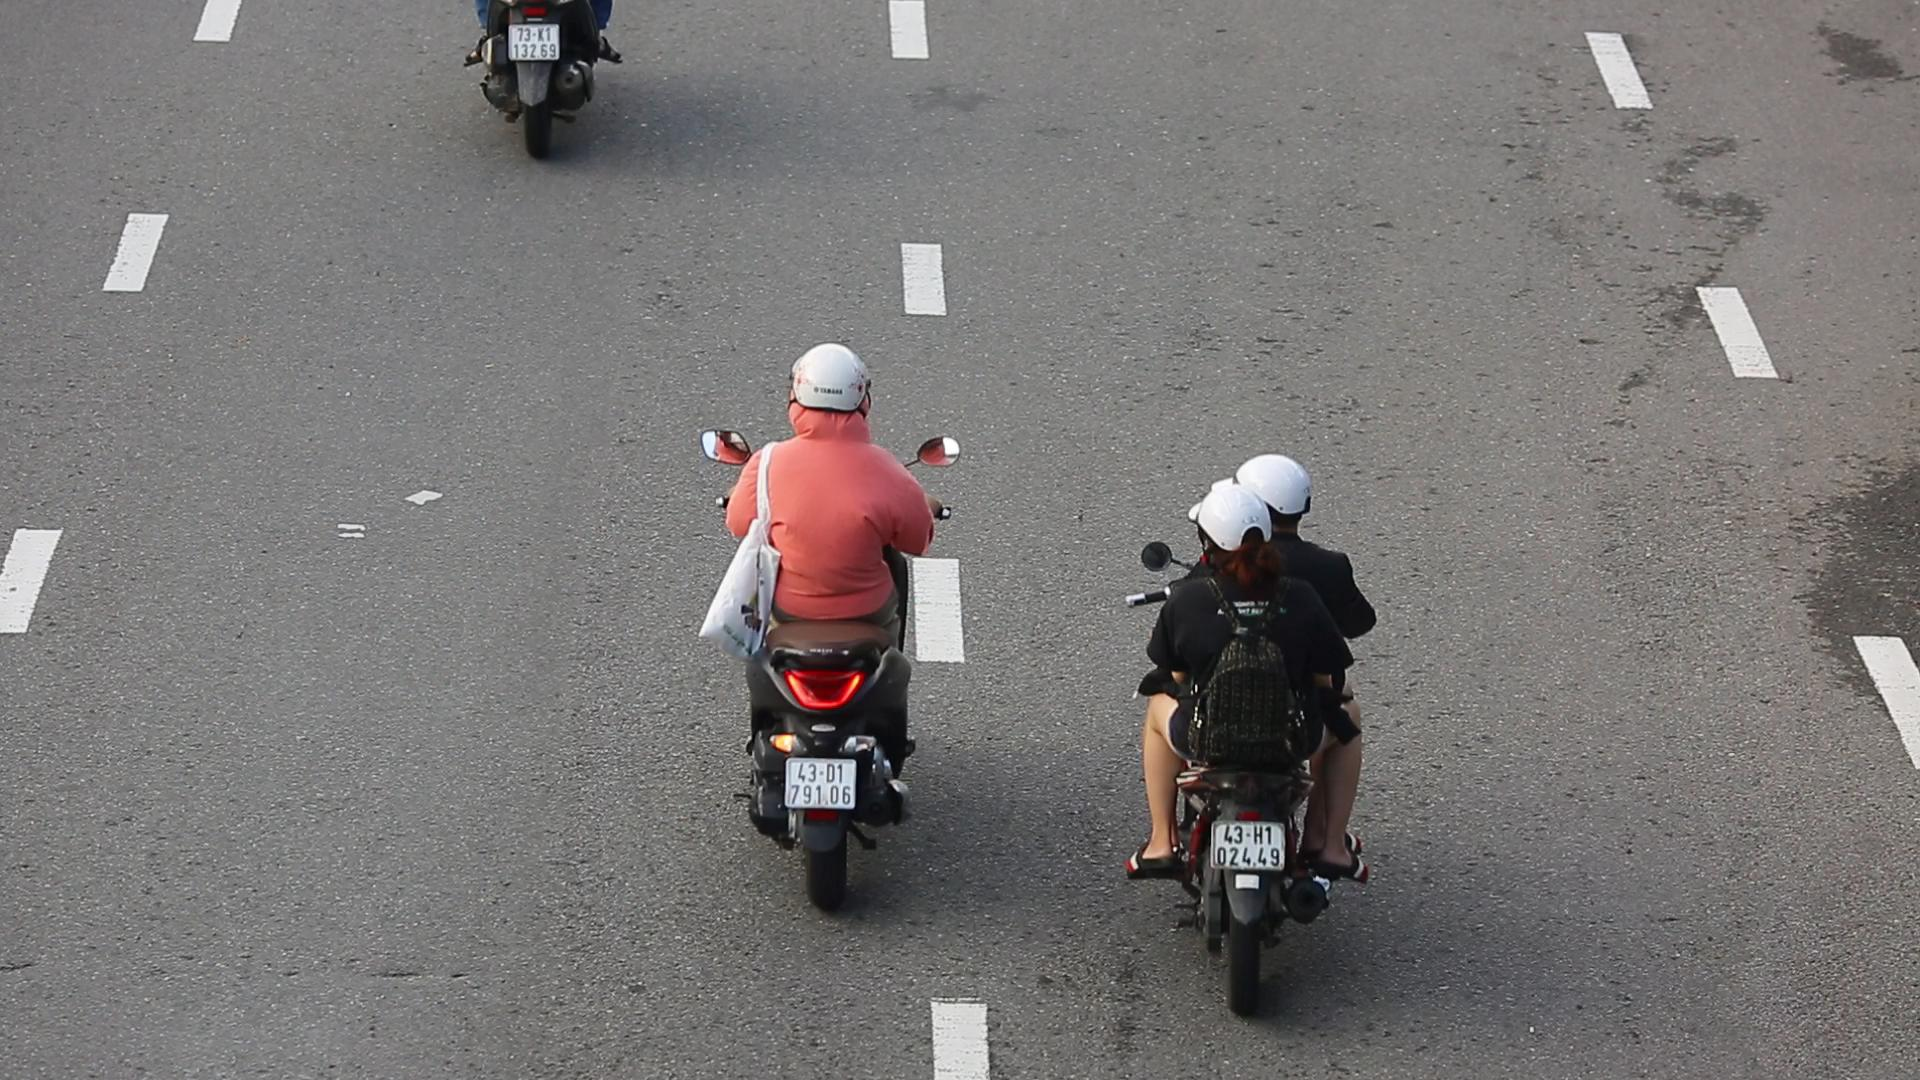motobike: (690, 336, 976, 931), (1122, 442, 1378, 1018)
